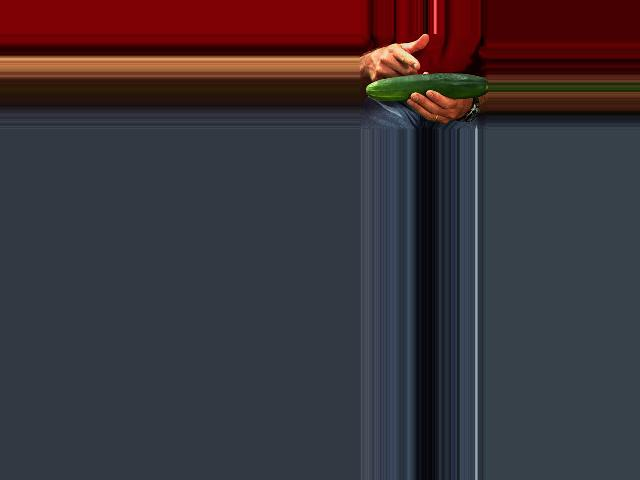cucumber: (366, 73, 488, 102)
